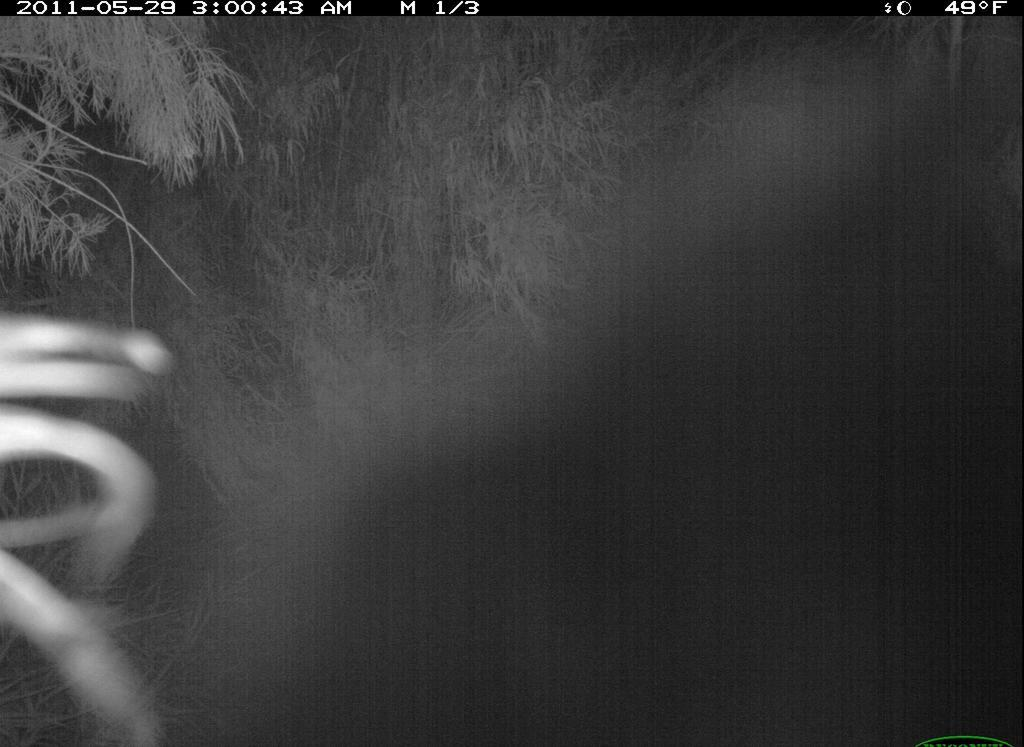raccoon: (2, 64, 1022, 745)
